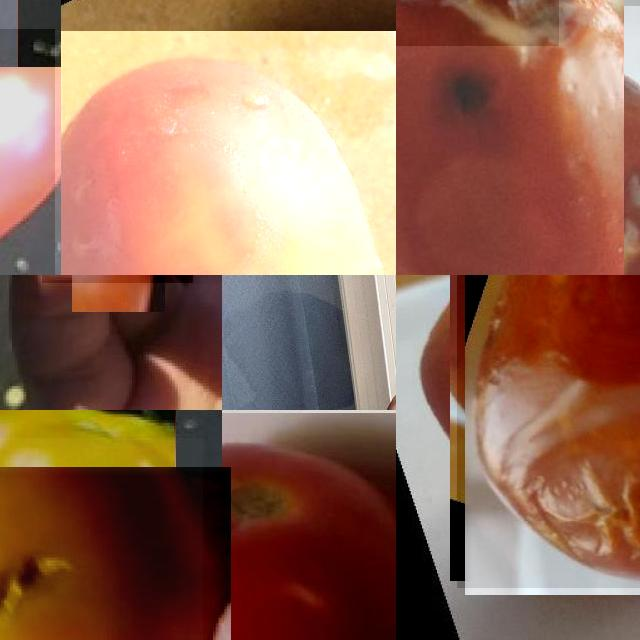0: (61, 31, 396, 275), (222, 412, 396, 640)
1: (0, 438, 203, 640)
Rotten Tomato: (396, 0, 640, 275), (456, 275, 640, 588)
